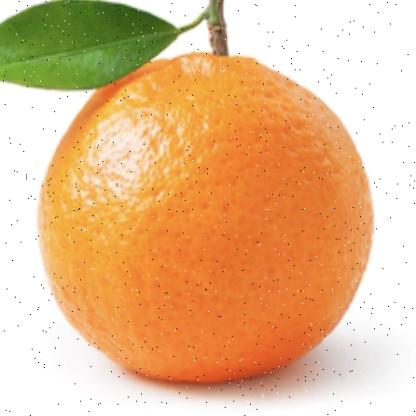fresh: (38, 34, 372, 384)
